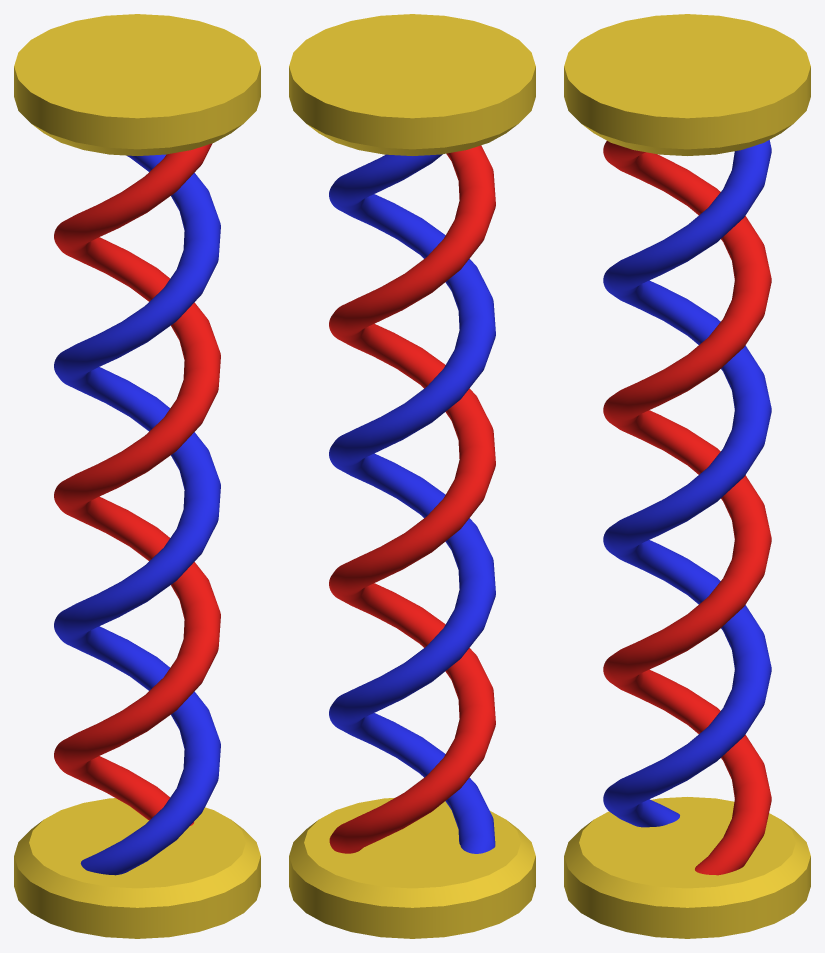
Rendered from doubleHelix.fbx.
3 renders of one model, left to right at view 1: azimuth 30°, elevation 25°; view 2: azimuth 150°, elevation 25°; view 3: azimuth 270°, elevation 25°, orthographic.
Visible parts, largest first — view 1: Double Helix Collectable; view 2: Double Helix Collectable; view 3: Double Helix Collectable.
Part boxes in pixels (x1,y1,x2,y2): Double Helix Collectable: (14, 14, 260, 938); Double Helix Collectable: (289, 14, 535, 938); Double Helix Collectable: (564, 14, 810, 938).
Size of the model in its own units: 108 by 108 by 396.
